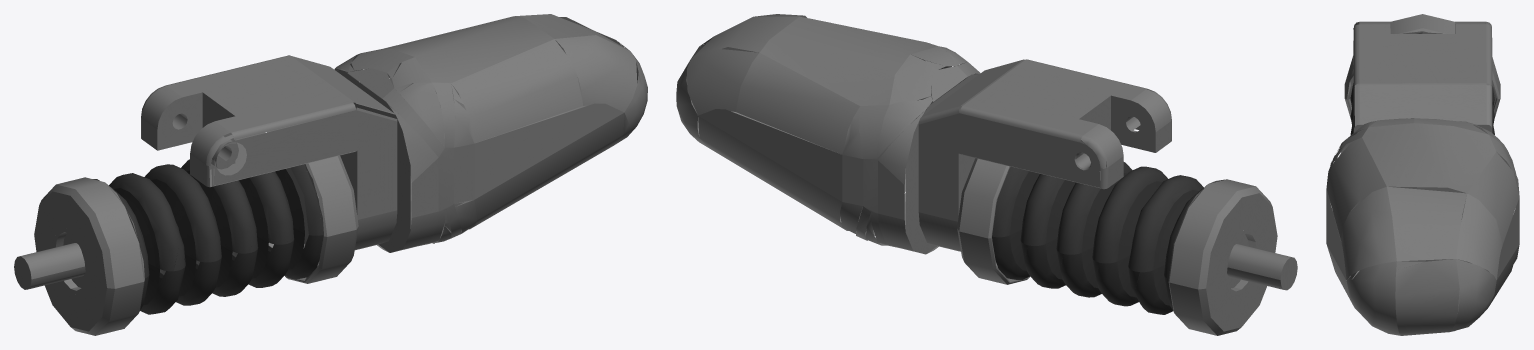
File: handr_finger_index2_joint.obj
The picture shows the model from 3 angles, left to right: view 1: azimuth 30°, elevation 25°; view 2: azimuth 150°, elevation 25°; view 3: azimuth 270°, elevation 25°; orthographic projection.
Size of the model in its own units: 0.0605 by 0.0186 by 0.0168.
1 material, 1 textured.
